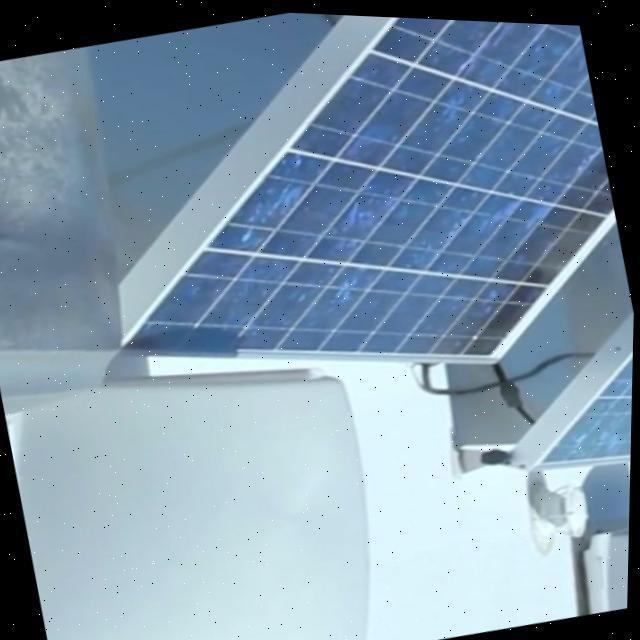Normal Solar Panel: (59, 2, 640, 436), (507, 319, 635, 475)
